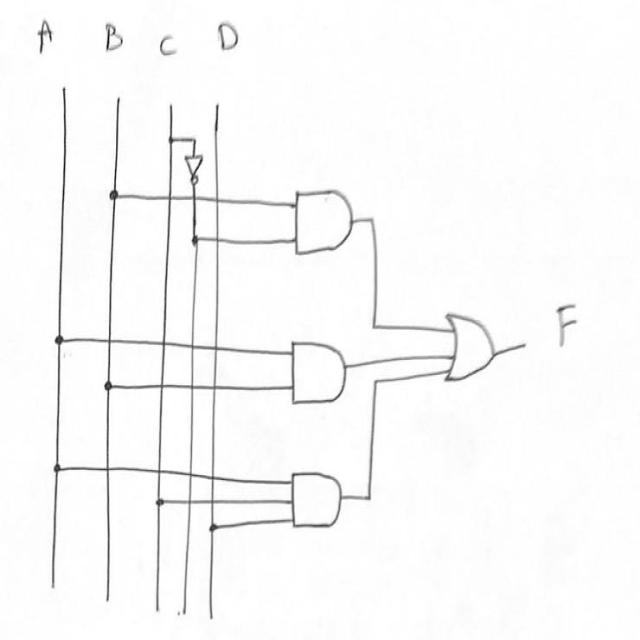AND: (288, 171, 360, 276), (280, 326, 355, 422), (278, 466, 350, 540)
NOT: (182, 152, 211, 190)
OR: (438, 302, 502, 398)
